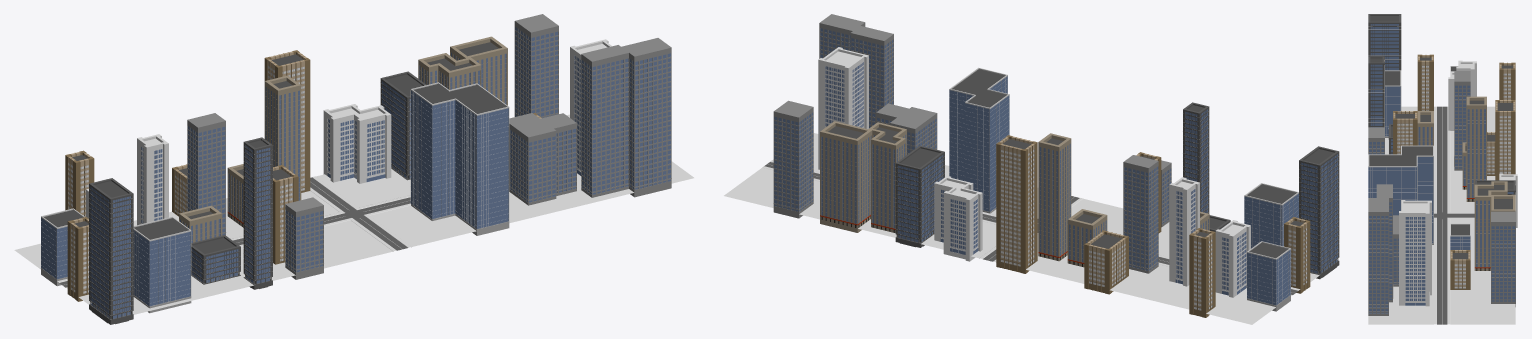
Rendered from abandoned city.fbx.
3 renders of one model, left to right at view 1: azimuth 30°, elevation 25°; view 2: azimuth 150°, elevation 25°; view 3: azimuth 270°, elevation 25°, orthographic. The views are drawn at different scales.
Parts seen in each view (by area): view 1: city; view 2: city; view 3: city.
Boxes of the visible parts, x1,y1,x2,y2 form: city: (14, 14, 693, 324); city: (724, 14, 1339, 324); city: (1368, 14, 1517, 324).
Bounding box in the file's own units: 12604 × 2906 × 3656.
